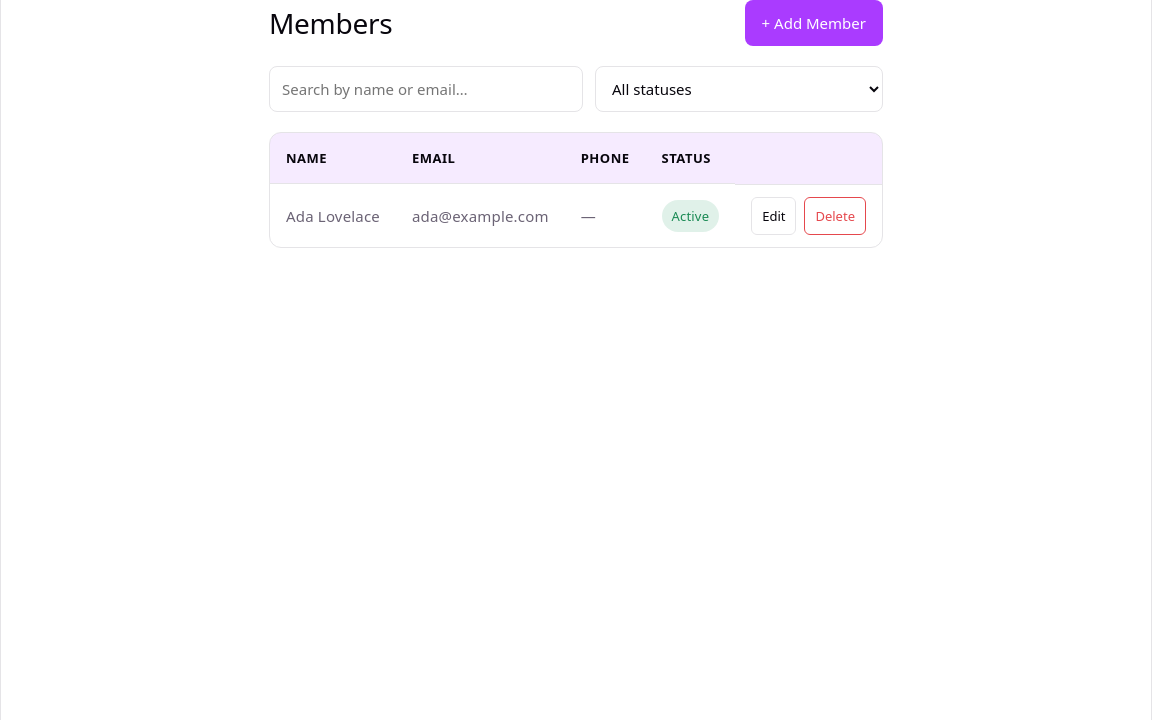
Test: MembersPage › shows a delete-guard conflict from the API and keeps the dialog open
Expected: the text "Ada Lovelace" is shown, 270,184 -> 396,247
Click the button "Delete" at (835, 216), box 804,197 -> 866,235
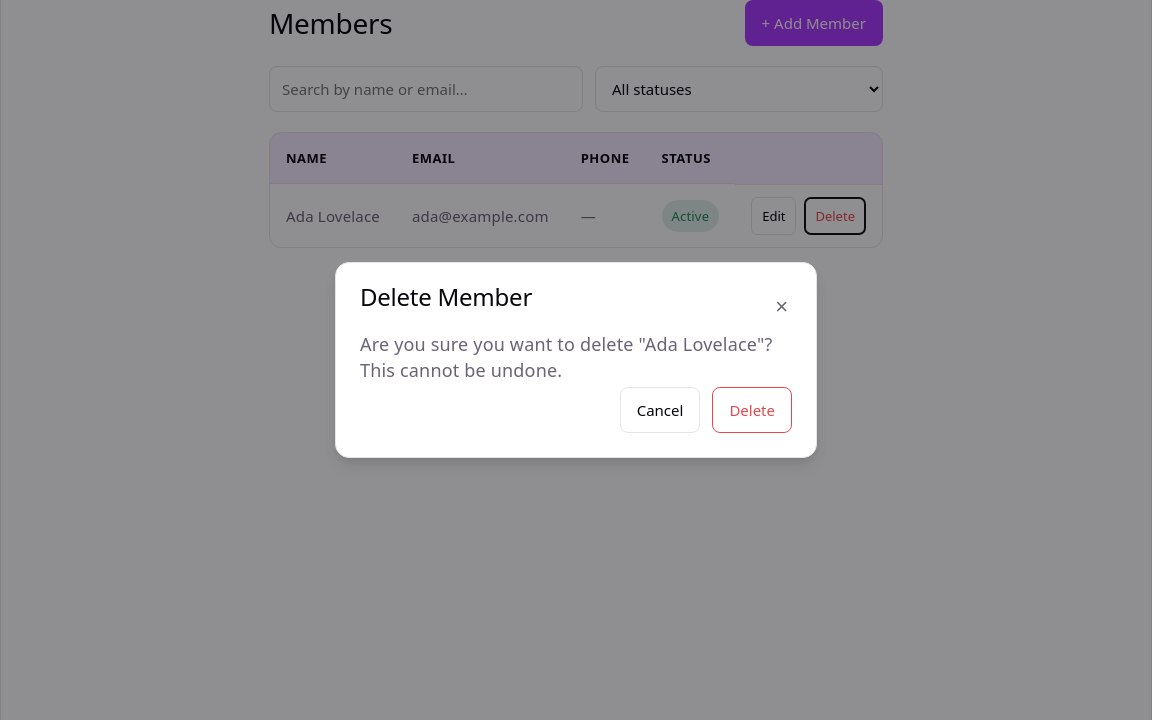
Click the button "Delete" at (752, 410), box 712,387 -> 792,433
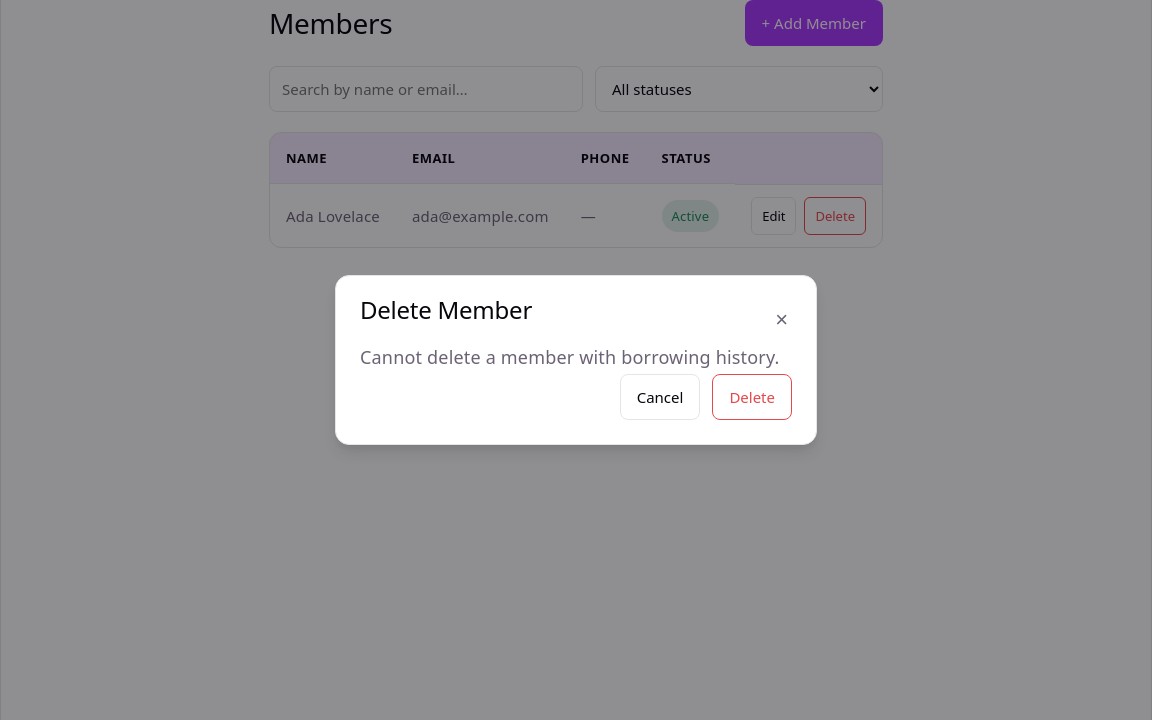
Expected: the text "Cannot delete a member with borrowing history." is shown, 360,344 -> 792,370
